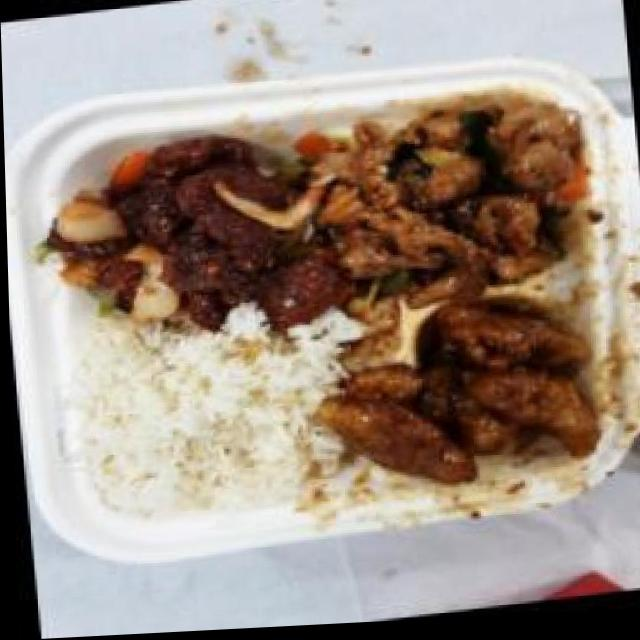Beijing Beef: (33, 115, 323, 340)
Kung Pao Chicken: (292, 81, 601, 321)
The Original Orange Chicken: (315, 287, 615, 507)
White Steamed Rice: (59, 307, 342, 533)
